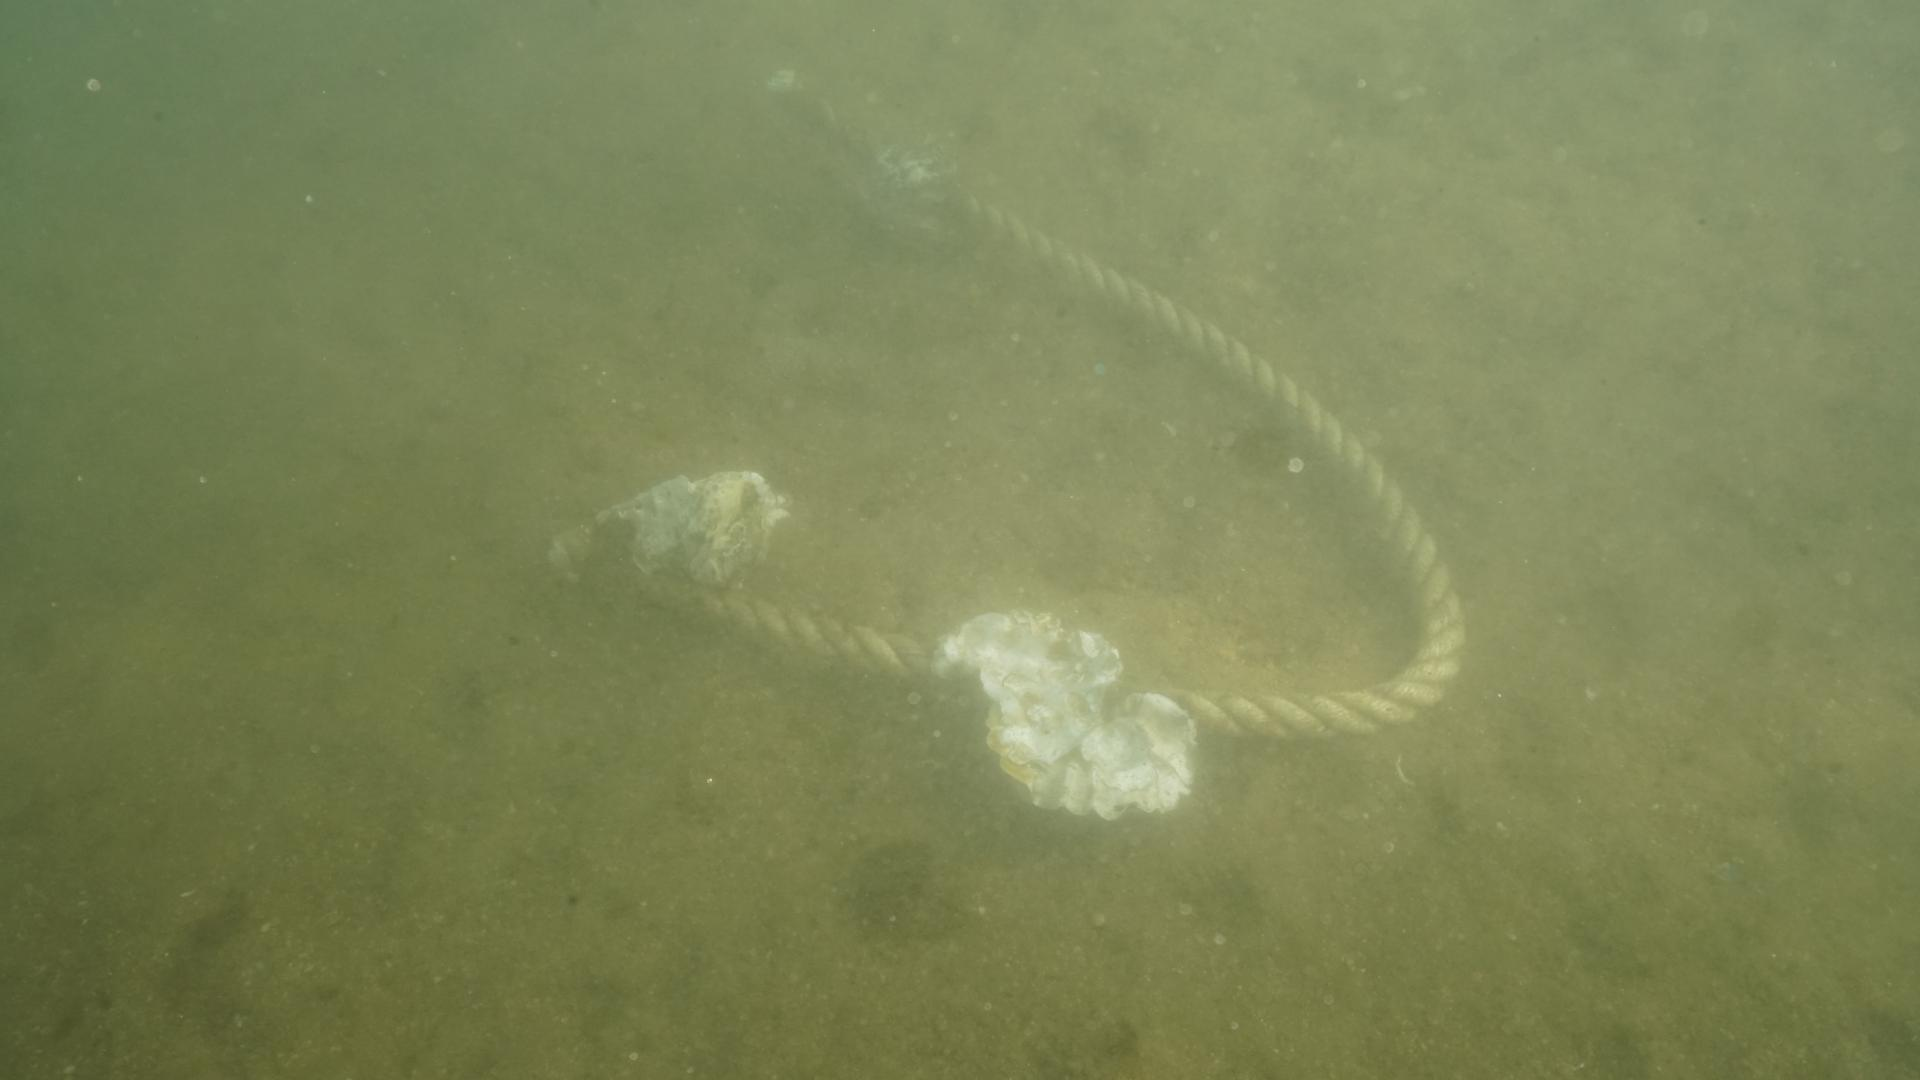rope: (657, 63, 1472, 745)
